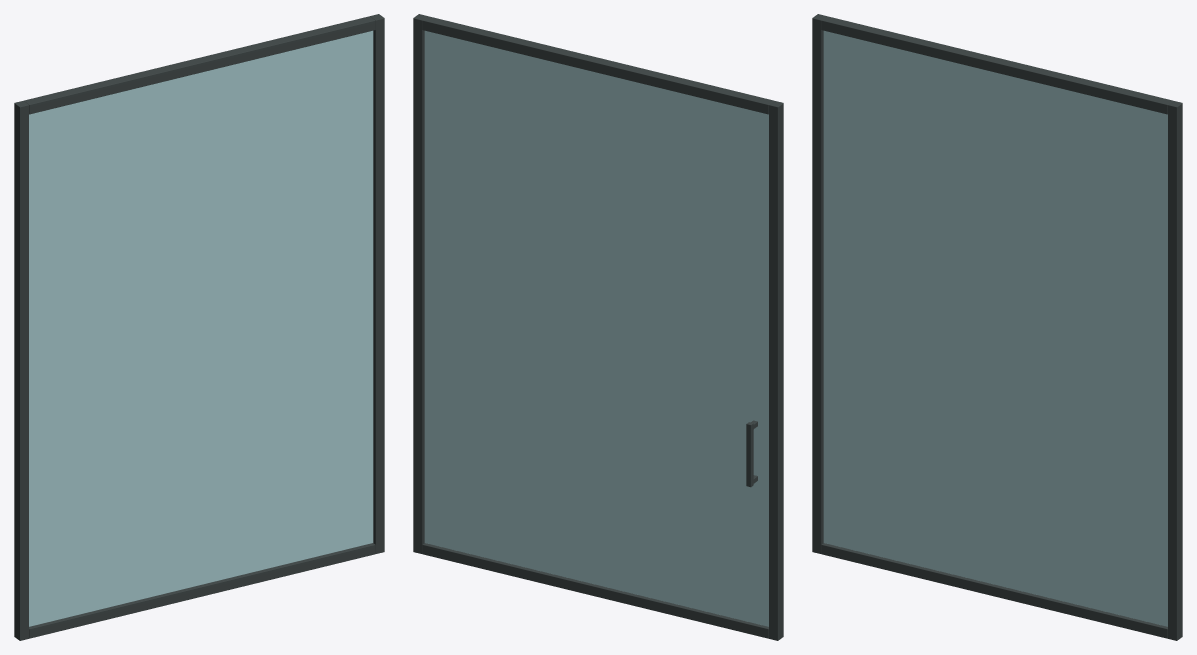
Rendered from balcony_sliding_door.glb.
3 renders of one model, left to right at view 1: azimuth 30°, elevation 25°; view 2: azimuth 150°, elevation 25°; view 3: azimuth 330°, elevation 25°, orthographic.
Parts seen in each view (by area): view 1: balcony_sliding_door_glass, balcony_sliding_door, balcony_sliding_door_stile_-1, balcony_sliding_door_rail_-1; view 2: balcony_sliding_door_glass, balcony_sliding_door, balcony_sliding_door_stile_-1, balcony_sliding_door_rail_-1; view 3: balcony_sliding_door_glass, balcony_sliding_door, balcony_sliding_door_stile_-1, balcony_sliding_door_rail_-1.
Part boxes in pixels (left/top/right/bottom): balcony_sliding_door_glass: left=29, top=30, right=373, bottom=626; balcony_sliding_door: left=24, top=14, right=384, bottom=553; balcony_sliding_door_stile_-1: left=14, top=101, right=28, bottom=640; balcony_sliding_door_rail_-1: left=29, top=543, right=375, bottom=638; balcony_sliding_door_glass: left=424, top=30, right=768, bottom=626; balcony_sliding_door: left=413, top=14, right=773, bottom=553; balcony_sliding_door_stile_-1: left=769, top=101, right=783, bottom=640; balcony_sliding_door_rail_-1: left=422, top=543, right=768, bottom=638; balcony_sliding_door_glass: left=823, top=30, right=1167, bottom=626; balcony_sliding_door: left=821, top=16, right=1182, bottom=640; balcony_sliding_door_stile_-1: left=812, top=14, right=826, bottom=553; balcony_sliding_door_rail_-1: left=821, top=543, right=1167, bottom=638.
Size of the model in its own units: 1.96 by 2.74 by 0.12.
